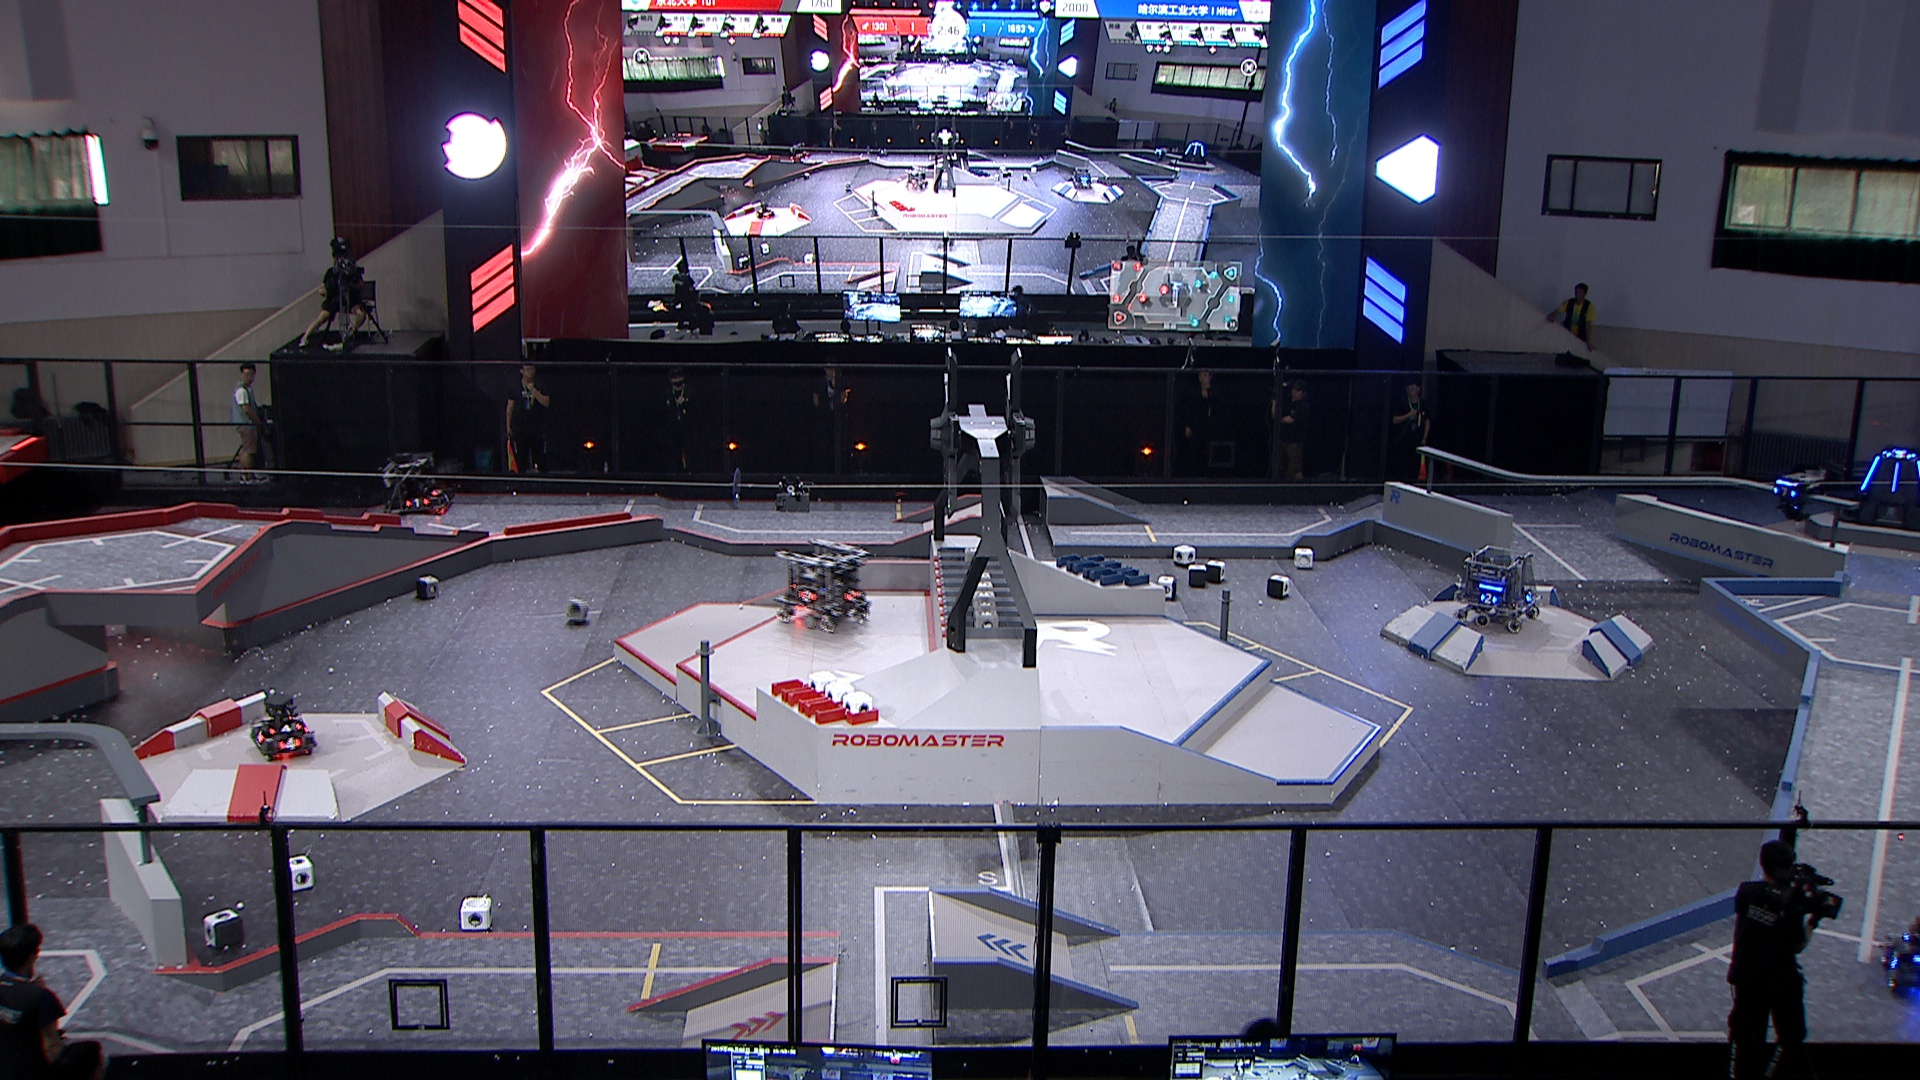armor: (1855, 455, 1882, 493), (264, 719, 302, 737), (276, 733, 305, 752), (1888, 458, 1903, 493), (1770, 484, 1799, 500), (1884, 448, 1917, 462), (404, 495, 430, 510), (434, 488, 456, 506), (1477, 591, 1501, 608), (796, 588, 818, 607), (1883, 948, 1902, 969), (1520, 585, 1538, 604), (252, 727, 268, 745), (425, 483, 446, 496), (844, 588, 860, 604)
base: (1833, 439, 1920, 538)
car: (770, 533, 877, 636), (1451, 543, 1542, 636), (248, 688, 320, 764), (382, 450, 460, 517), (1875, 906, 1920, 1000)
ignore: (1178, 140, 1209, 167), (901, 166, 930, 191), (1069, 166, 1095, 193), (756, 196, 775, 222), (785, 142, 808, 162), (1153, 144, 1168, 162)
watcher: (1764, 463, 1828, 522)
